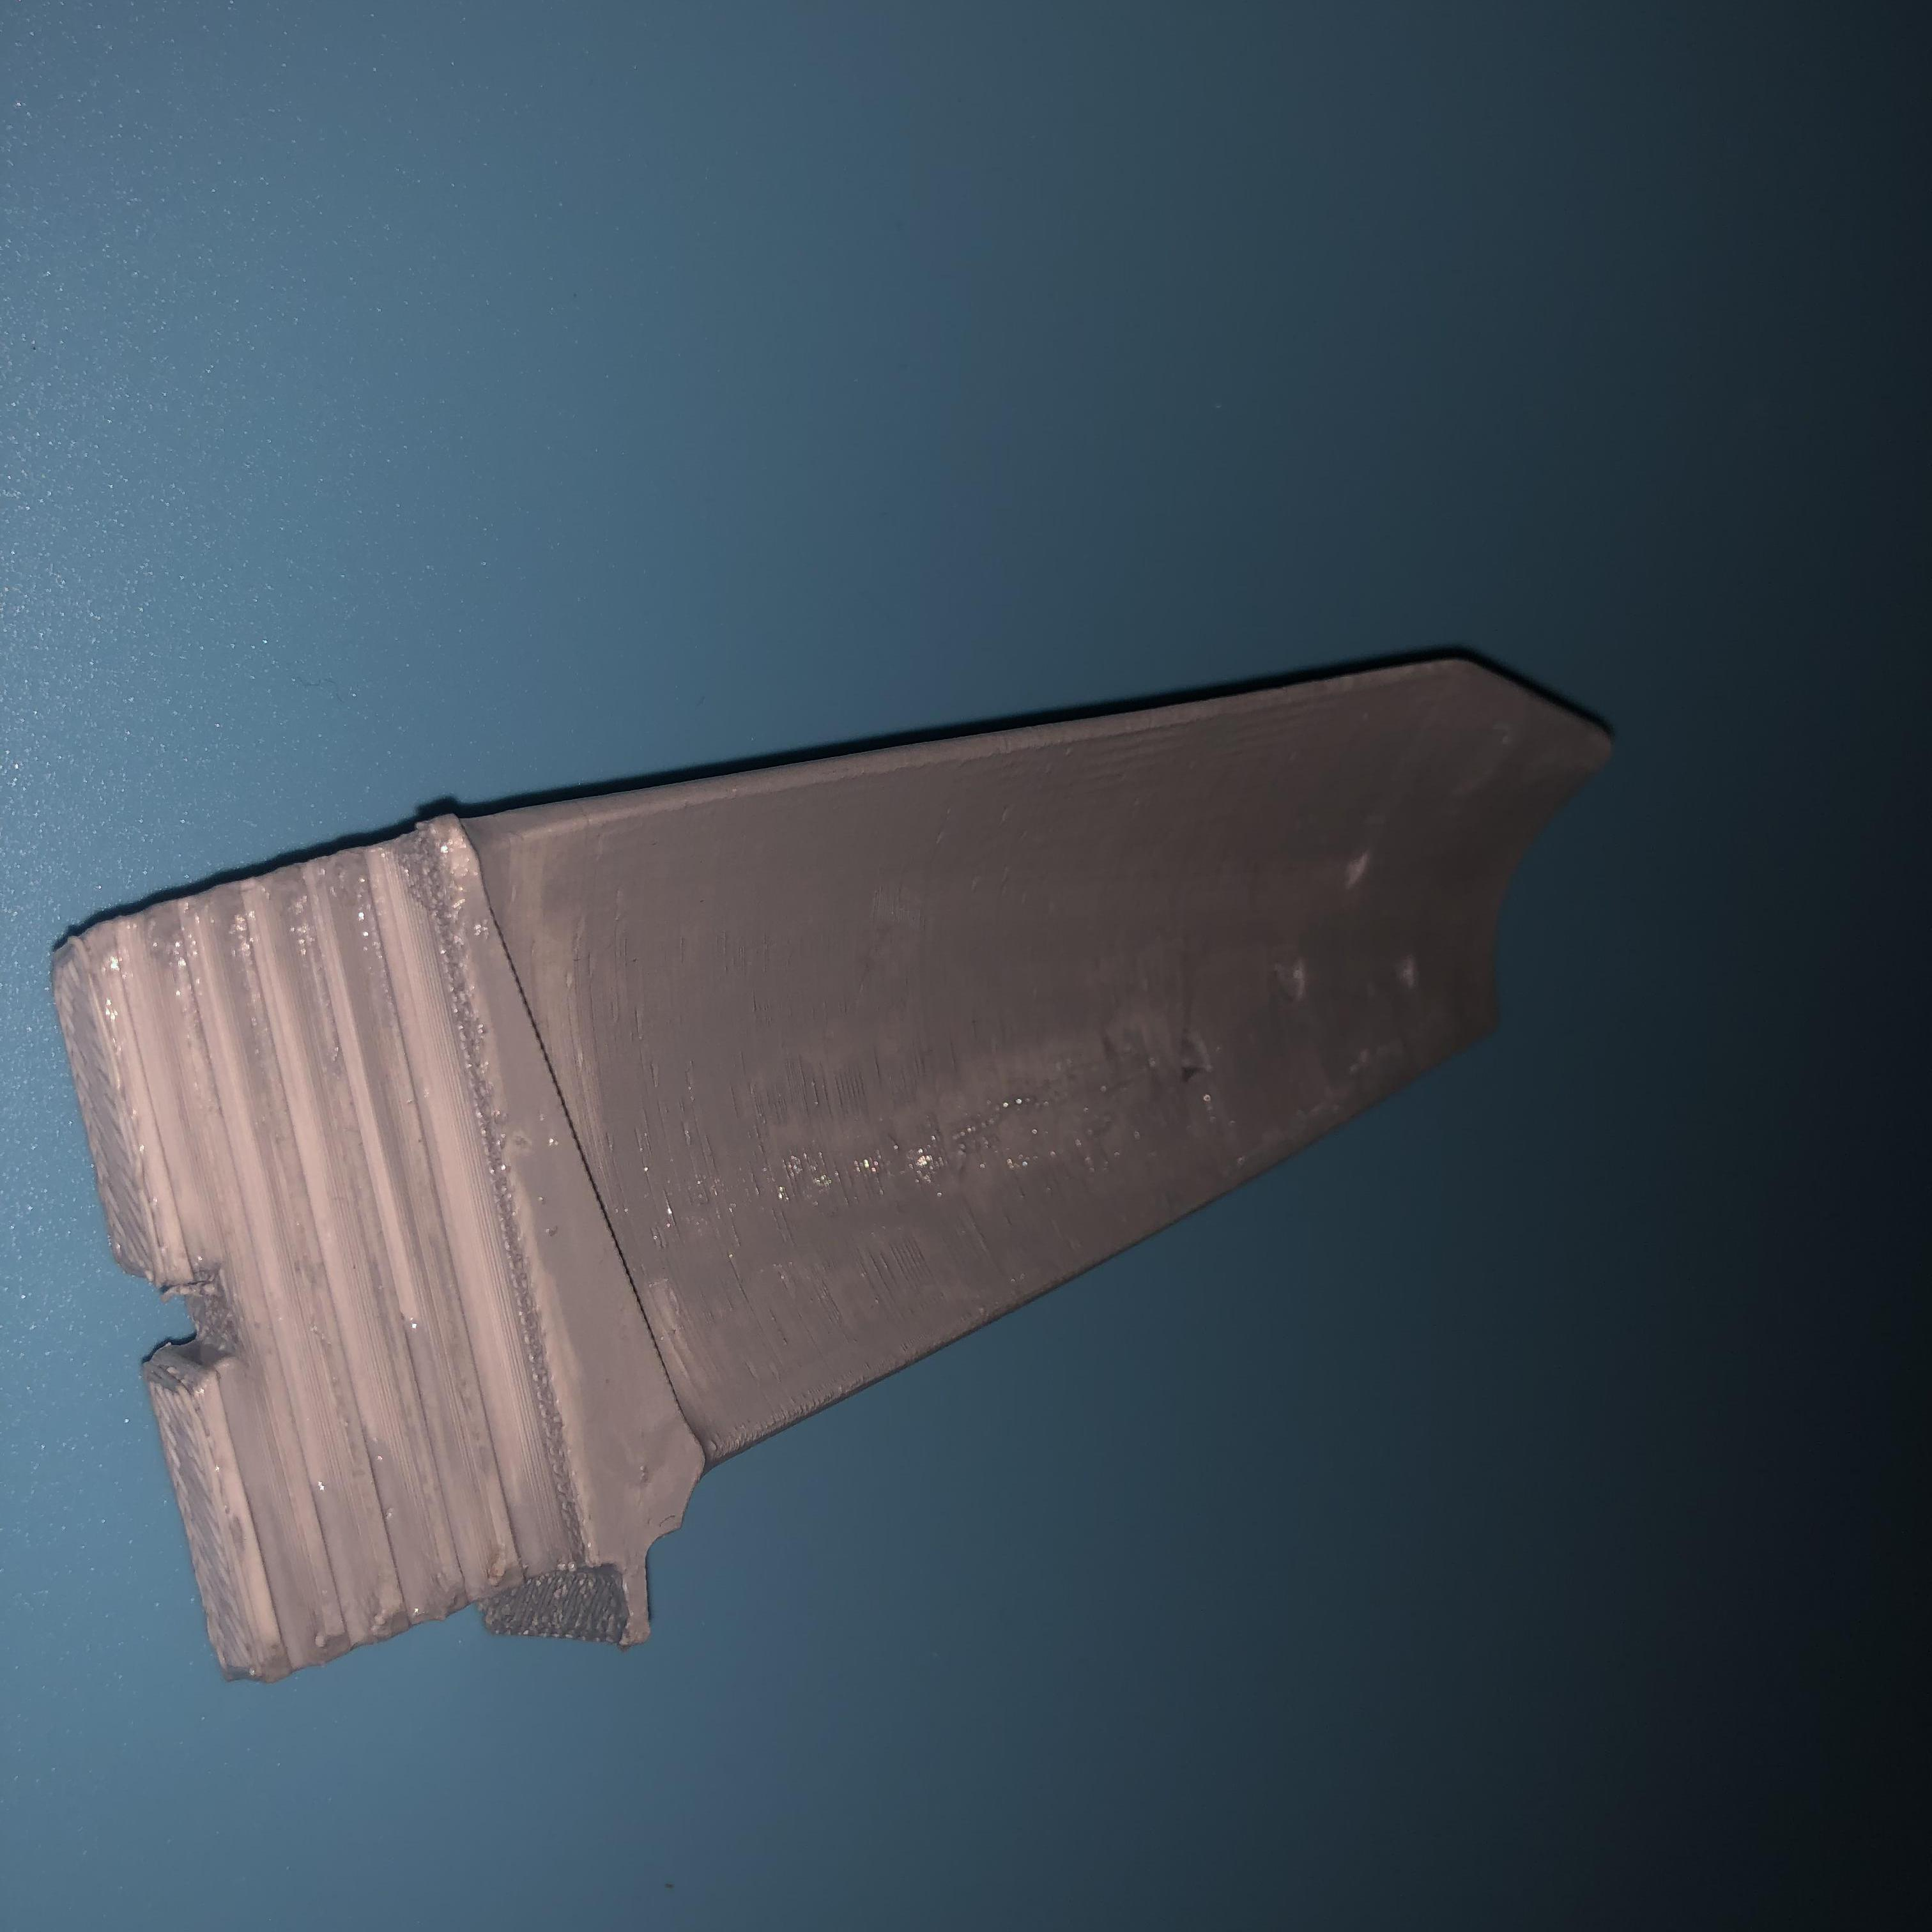breakdown: (1279, 853, 1454, 1016), (1166, 1030, 1231, 1088)
